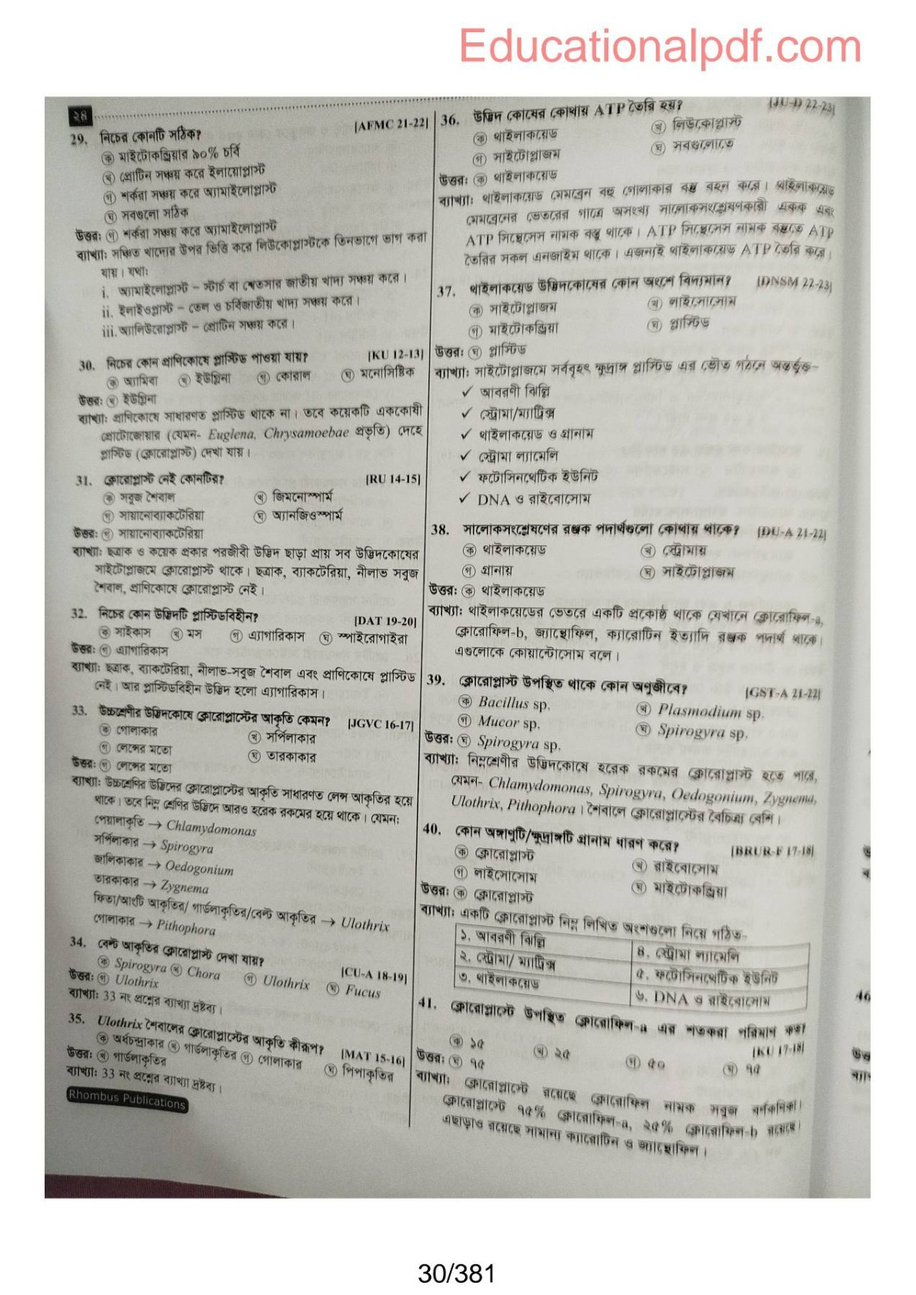question: (57, 124, 432, 227), (414, 994, 822, 1080), (433, 264, 839, 348), (438, 92, 878, 169), (418, 817, 821, 901), (423, 669, 828, 742), (427, 515, 834, 586), (63, 1006, 409, 1086), (51, 935, 409, 1002), (40, 701, 418, 764), (66, 466, 424, 523), (64, 339, 422, 392), (58, 602, 418, 649)
